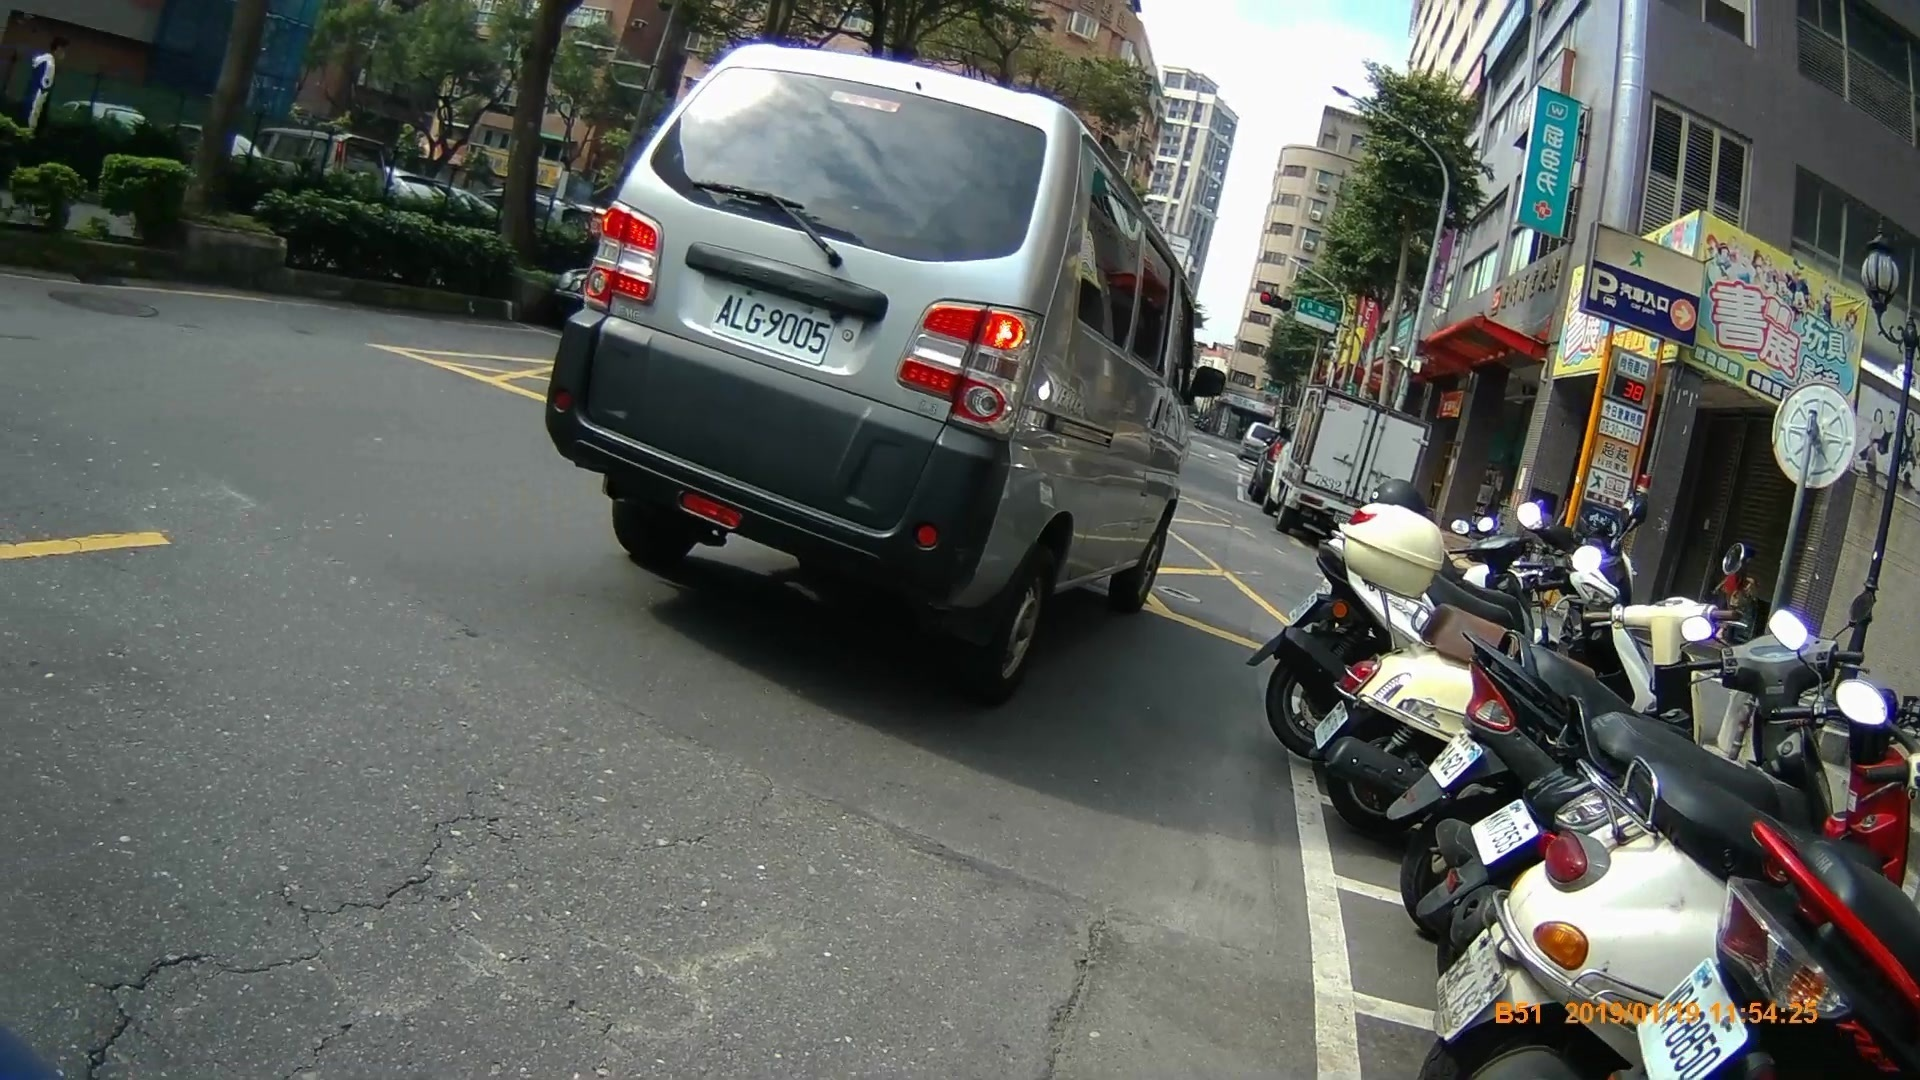License_plate: (713, 280, 831, 367)
